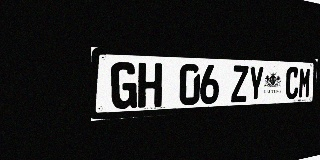0: (179, 64, 200, 106)
6: (200, 64, 220, 104)
C: (285, 67, 299, 99)
G: (111, 62, 137, 110)
H: (138, 63, 162, 108)
M: (298, 67, 311, 99)
Y: (248, 66, 264, 102)
Z: (231, 65, 249, 103)
